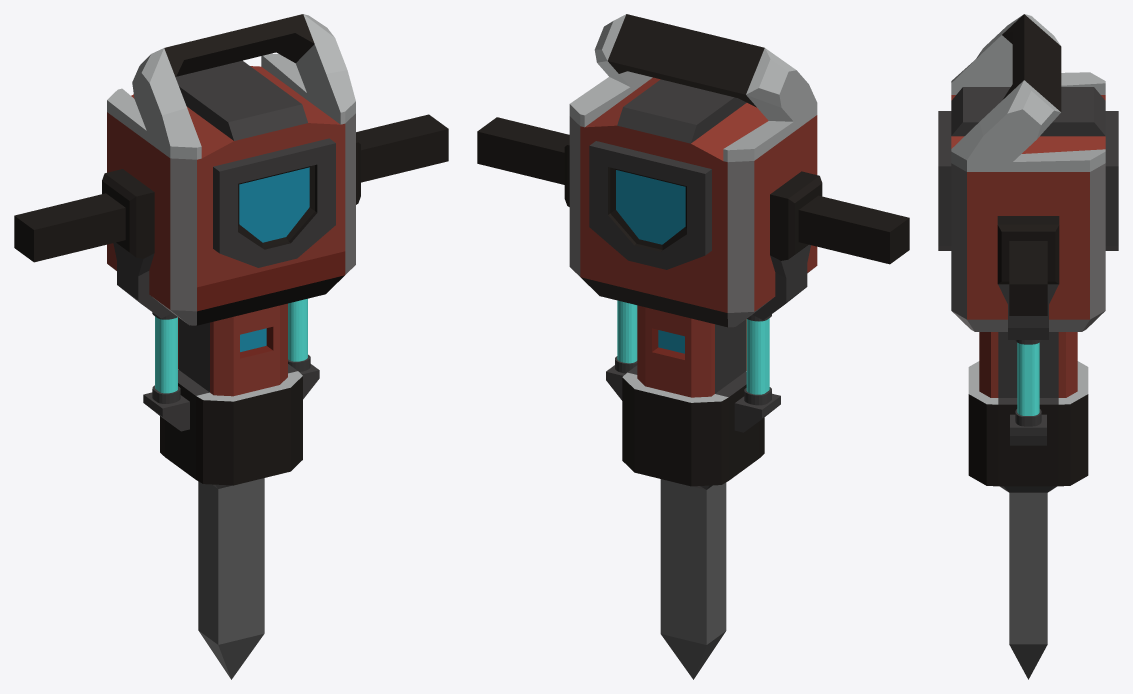
The model's file is ExtractorDrill.fbx.
3 views of the same model, side by side, from view 1: azimuth 30°, elevation 25°; view 2: azimuth 150°, elevation 25°; view 3: azimuth 270°, elevation 25° (orthographic). The views are drawn at different scales.
Visible parts, largest first — view 1: ExtractorDrill; view 2: ExtractorDrill; view 3: ExtractorDrill.
Boxes of the visible parts, left/top/right/bottom form: ExtractorDrill: left=14, top=14, right=448, bottom=679; ExtractorDrill: left=477, top=14, right=909, bottom=679; ExtractorDrill: left=938, top=14, right=1118, bottom=679.
Size of the model in its own units: 181 by 271 by 70.
